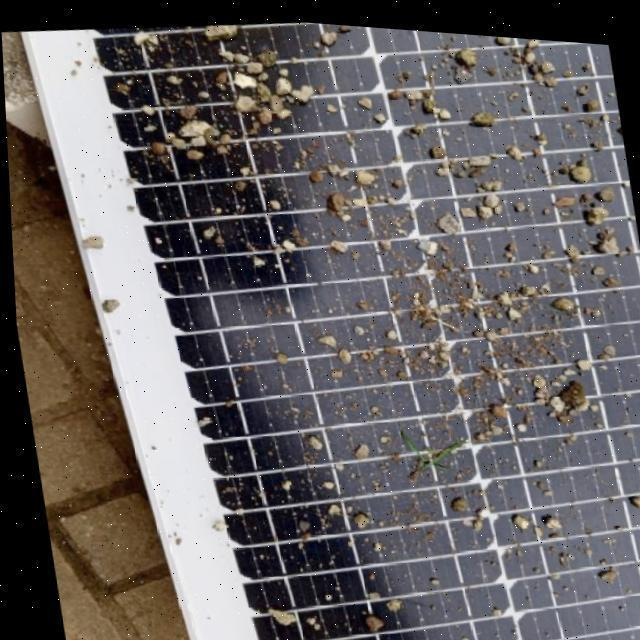Surface Contaminant: (115, 18, 640, 640)
